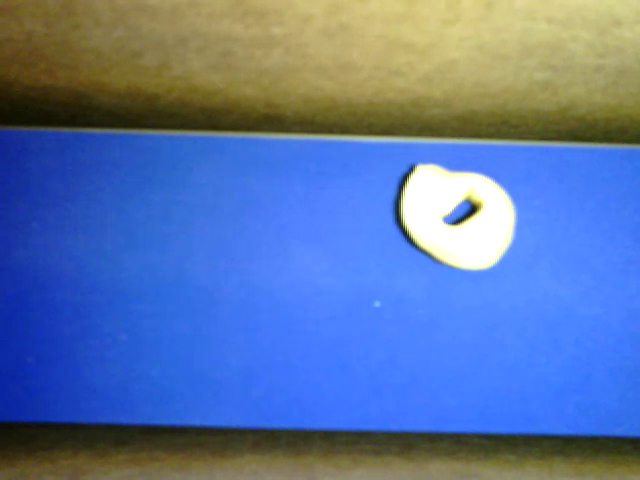tortellini: (396, 163, 515, 271)
